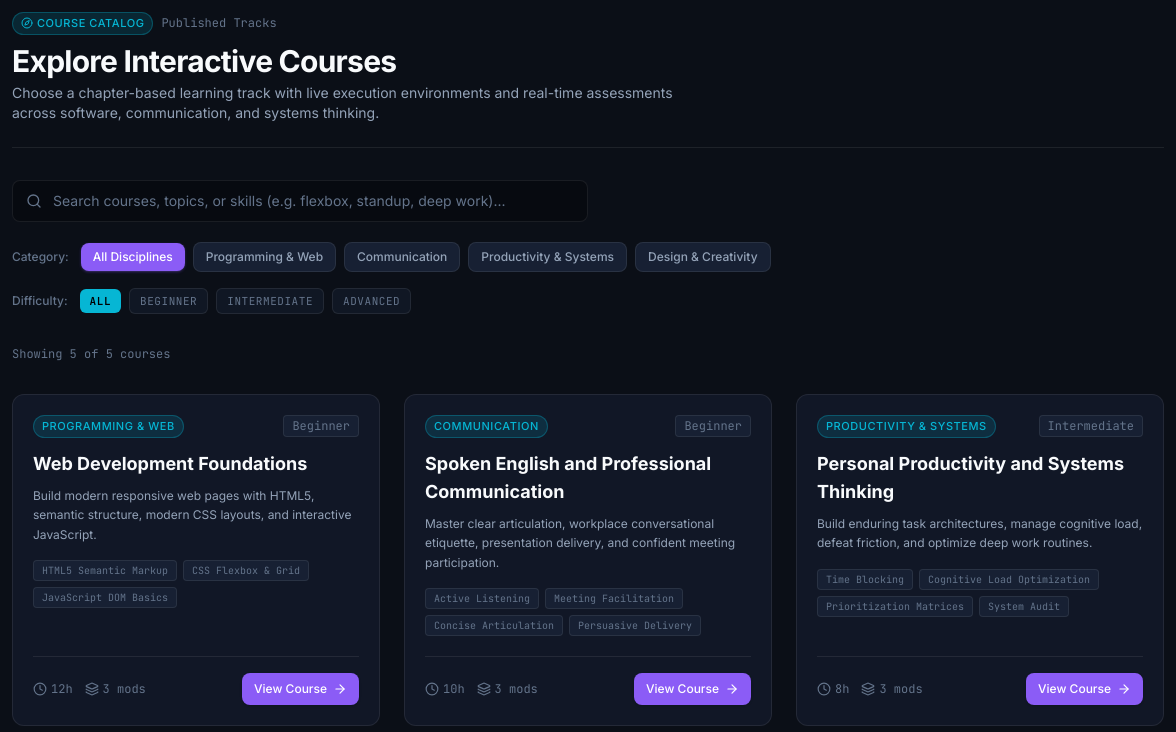
ExplorePage Interaction › filters courses by category chip
Click the button "Communication" at {"x": 402, "y": 256}, box [344,242,460,272]
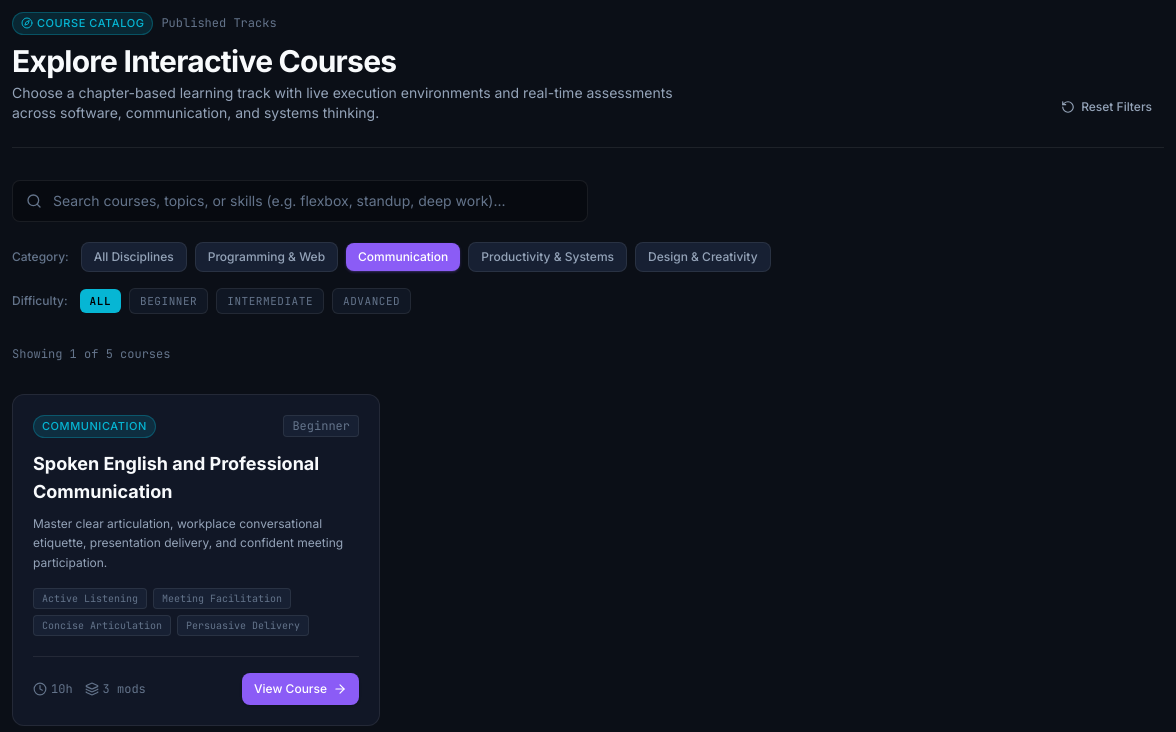
Check: the heading "Spoken English and Professional Communication" is shown, box [33,450,359,506]
Check: the heading "Web Development Foundations" is gone
Check: the text "Showing 1 of 5 courses" is shown, box [12,346,170,362]
